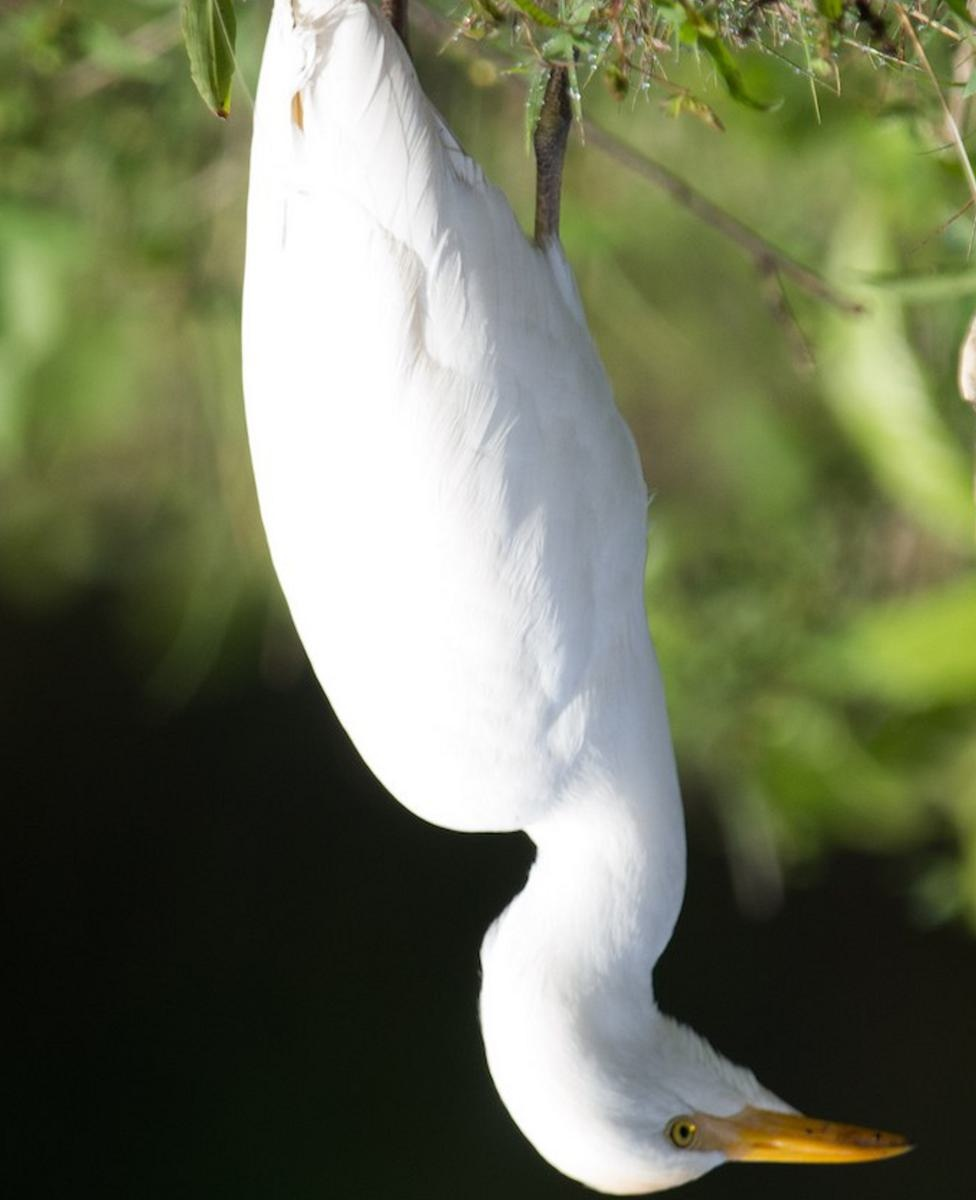egret: (211, 21, 930, 1183)
